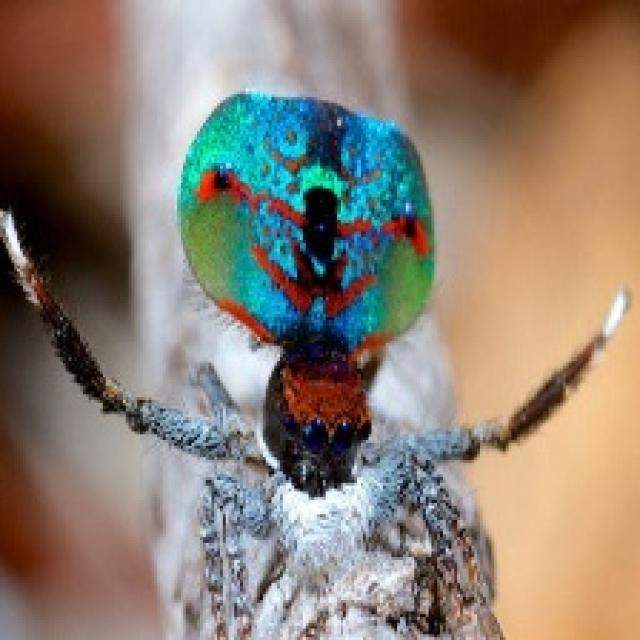Non venomous spider: (84, 48, 472, 414)
